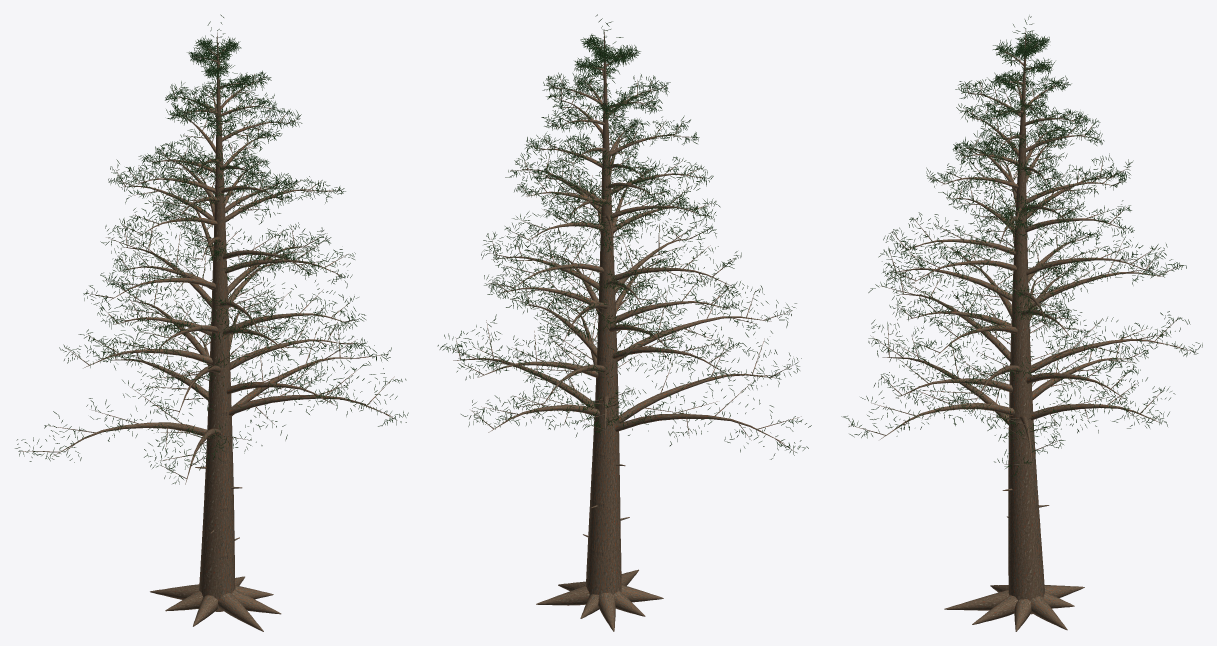
File: pine_mature_lod1.gltf
3 views of the same model, side by side, from view 1: azimuth 30°, elevation 25°; view 2: azimuth 150°, elevation 25°; view 3: azimuth 270°, elevation 25° (orthographic).
Parts seen in each view (by area): view 1: pine_mature_lod1; view 2: pine_mature_lod1; view 3: pine_mature_lod1.
Part boxes in pixels (x1,y1,x2,y2): pine_mature_lod1: (15,14,408,631); pine_mature_lod1: (437,14,811,631); pine_mature_lod1: (841,15,1202,631).
Bounding box in the file's own units: 8.12 × 12.36 × 6.8.
Materials: 2 (2 with a texture image).
